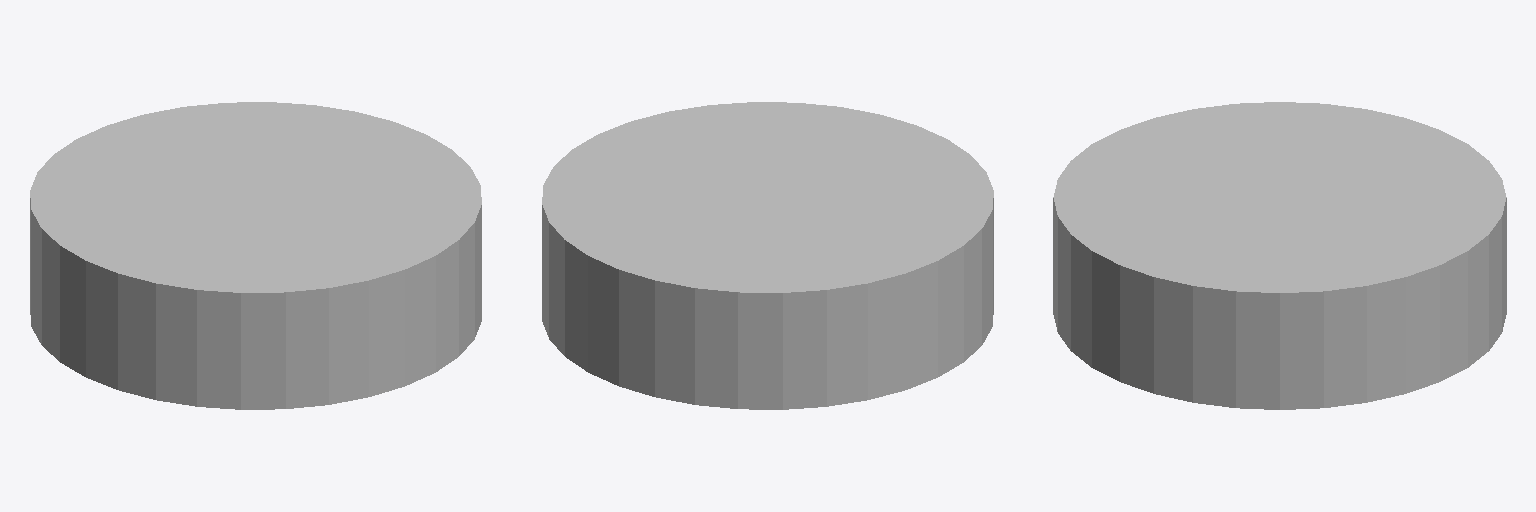
The model's file is kolo.obj.
The picture shows the model from 3 angles: view 1: azimuth 30°, elevation 25°; view 2: azimuth 150°, elevation 25°; view 3: azimuth 270°, elevation 25°; orthographic projection.
Parts seen in each view (by area): view 1: Mesh_Mesh.004, Mesh.001_Mesh.005; view 2: Mesh_Mesh.004, Mesh.001_Mesh.005; view 3: Mesh_Mesh.004, Mesh.001_Mesh.005.
Part boxes in pixels (left/top/right/bottom): Mesh_Mesh.004: left=30, top=102, right=481, bottom=409; Mesh.001_Mesh.005: left=108, top=135, right=403, bottom=259; Mesh_Mesh.004: left=542, top=102, right=993, bottom=409; Mesh.001_Mesh.005: left=620, top=135, right=915, bottom=259; Mesh_Mesh.004: left=1053, top=102, right=1506, bottom=409; Mesh.001_Mesh.005: left=1132, top=135, right=1427, bottom=259.
Bounding box in the file's own units: 0.5932 × 0.1689 × 0.5932.